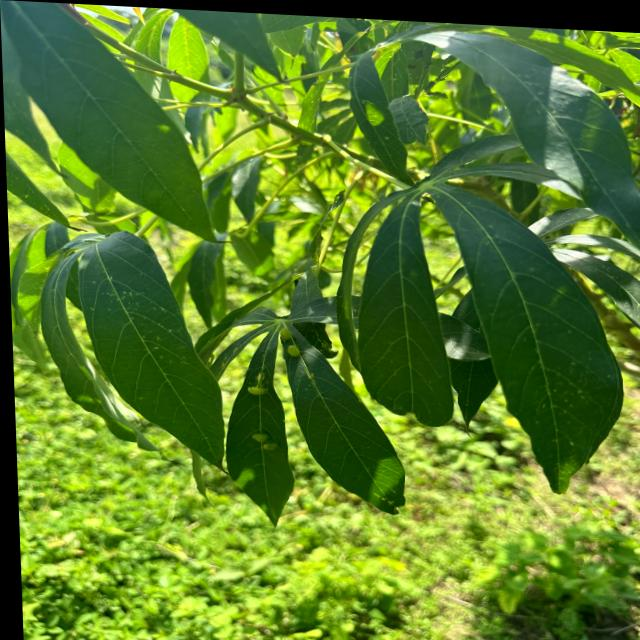Maleza: (429, 449, 640, 640), (134, 519, 440, 640), (22, 479, 233, 636)
Mosca: (278, 318, 320, 380), (249, 423, 295, 452), (243, 373, 276, 410)
